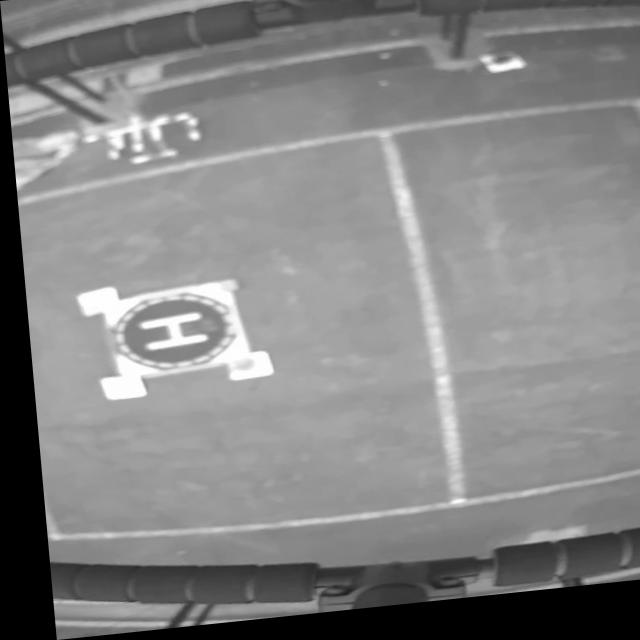Helipad: (133, 314, 203, 353)
